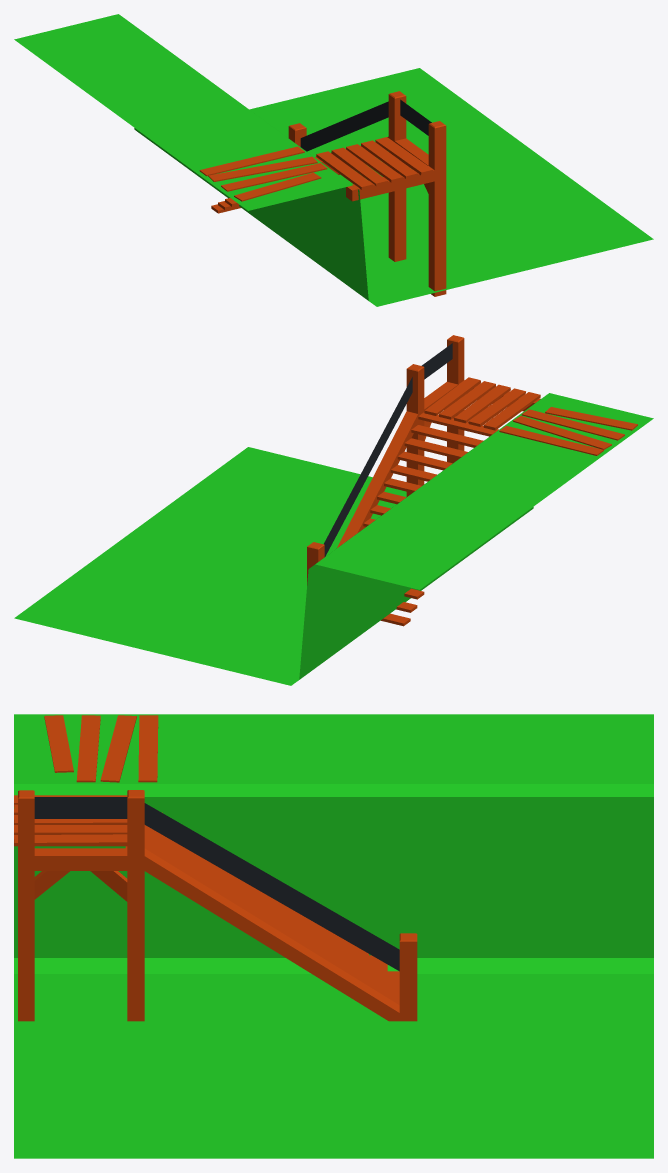
The model's file is world.obj.
The picture shows the model from 3 angles, top to bottom: view 1: azimuth 30°, elevation 25°; view 2: azimuth 150°, elevation 25°; view 3: azimuth 270°, elevation 25°; orthographic projection. The views are drawn at different scales.
Parts seen in each view (by area): view 1: Plane, Cube.002, Plane.001, Plane.002; view 2: Plane, Cube.002, Plane.001, Plane.002; view 3: Plane, Cube.002, Plane.001, Plane.002.
Boxes of the visible parts, <box> form: Plane: <box>14,14,653,306</box>; Cube.002: <box>199,91,446,296</box>; Plane.001: <box>300,99,431,151</box>; Plane.002: <box>302,102,429,149</box>; Plane: <box>14,393,653,685</box>; Cube.002: <box>307,335,637,626</box>; Plane.001: <box>324,343,452,556</box>; Plane.002: <box>325,344,450,555</box>; Plane: <box>14,714,653,1158</box>; Cube.002: <box>14,715,417,1021</box>; Plane.001: <box>34,797,399,971</box>; Plane.002: <box>35,798,399,968</box>.
Bounding box in the file's own units: 20 × 8.55 × 20.
